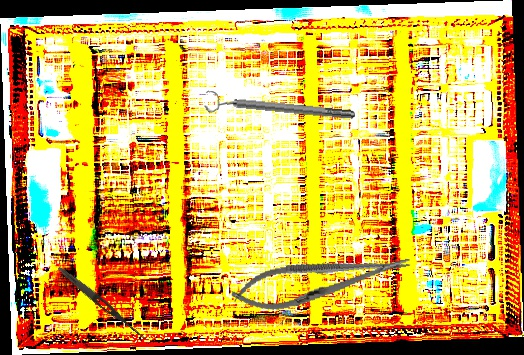Dressing Forceps: (55, 264, 150, 343)
Fixation Ring: (203, 88, 356, 128)
Needle Holder: (227, 242, 415, 319)
